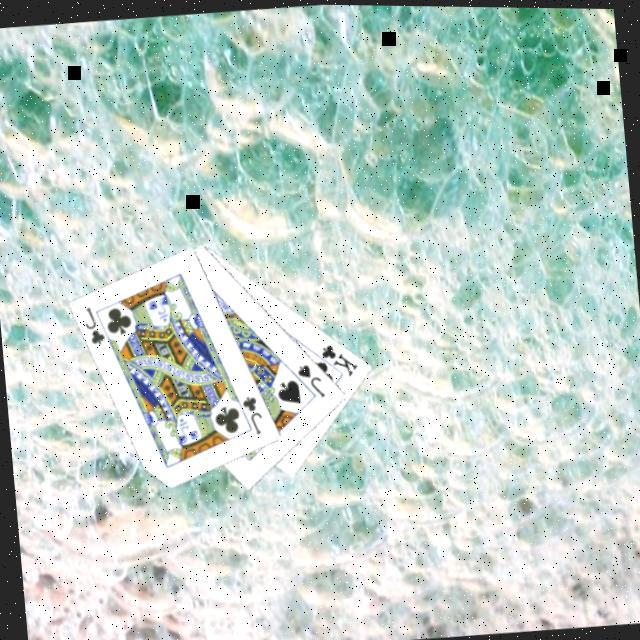JC: (80, 302, 110, 349), (240, 392, 268, 438)
JS: (294, 358, 330, 402)
KC: (310, 338, 362, 382)
